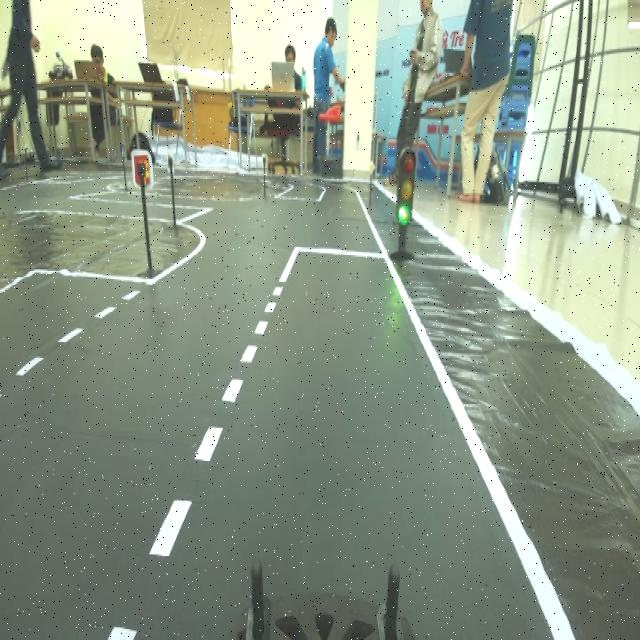trafficlight: (384, 134, 427, 272)
